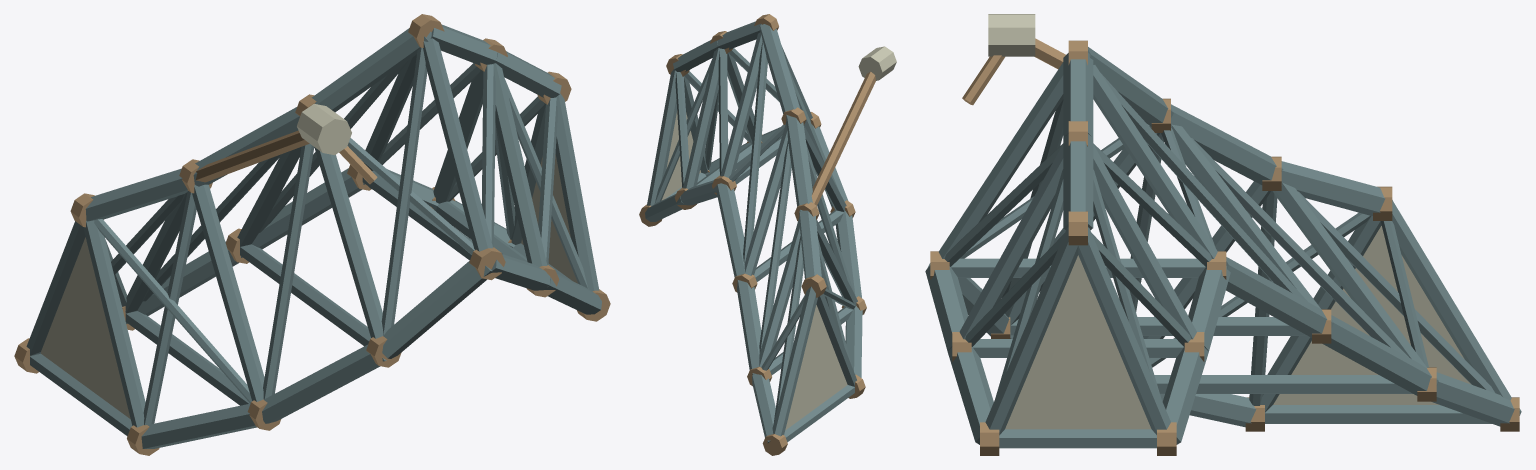
Rendered from fallen-relay.glb.
The picture shows the model from 3 angles, left to right: view 1: azimuth 30°, elevation 25°; view 2: azimuth 150°, elevation 25°; view 3: azimuth 270°, elevation 25°; orthographic projection. The views are drawn at different scales.
Parts seen in each view (by area): view 1: Wreck / oxidized gunmetal, Wreck / exposed fractured alloy, Wreck / weathered copper; view 2: Wreck / oxidized gunmetal, Wreck / weathered copper, Wreck / exposed fractured alloy; view 3: Wreck / oxidized gunmetal, Wreck / exposed fractured alloy, Wreck / weathered copper.
Part boxes in pixels (x1,y1,x2,y2): Wreck / oxidized gunmetal: (26, 24, 601, 448); Wreck / exposed fractured alloy: (41, 104, 577, 418); Wreck / weathered copper: (14, 14, 610, 455); Wreck / oxidized gunmetal: (645, 21, 862, 443); Wreck / weathered copper: (639, 14, 875, 455); Wreck / exposed fractured alloy: (661, 46, 896, 430); Wreck / oxidized gunmetal: (925, 47, 1521, 448); Wreck / exposed fractured alloy: (988, 14, 1470, 429); Wreck / weathered copper: (930, 38, 1519, 455).
Bounding box in the file's own units: 0.846 × 1 × 1.08.
